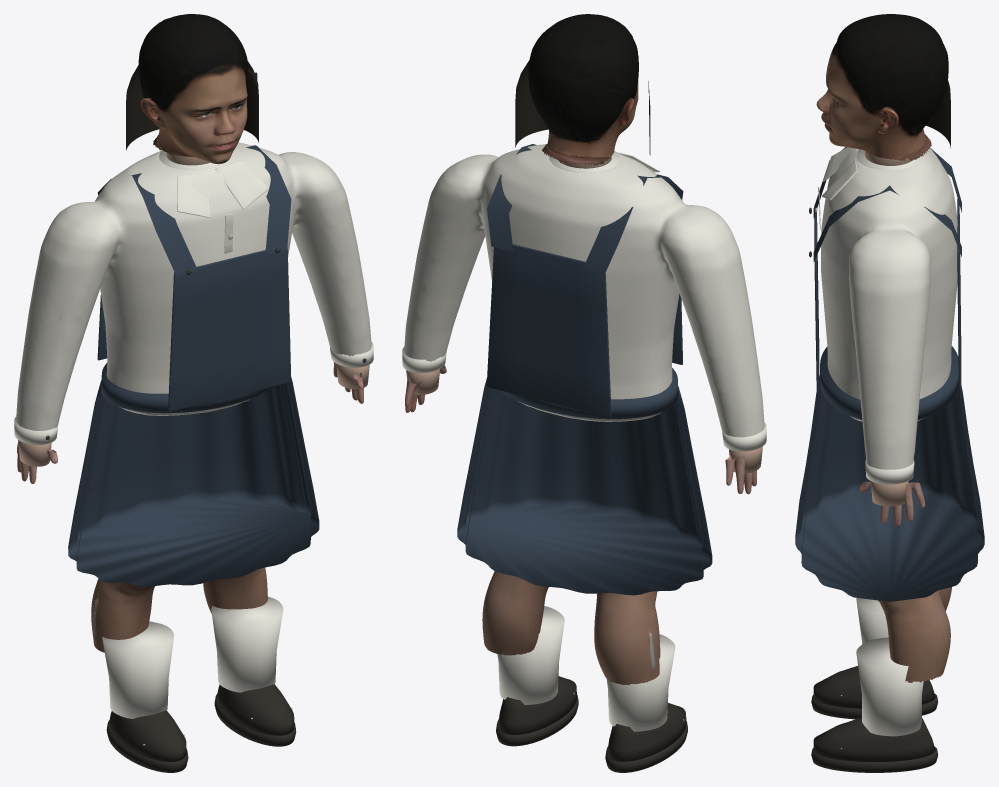
File: CampusGirl.fbx
The picture shows the model from 3 angles, left to right: view 1: azimuth 30°, elevation 25°; view 2: azimuth 150°, elevation 25°; view 3: azimuth 270°, elevation 25°; orthographic projection.
Visible parts, largest first — view 1: CampusGirl; view 2: CampusGirl; view 3: CampusGirl.
Part boxes in pixels (bbox=[...]): CampusGirl: bbox=[14, 14, 373, 772]; CampusGirl: bbox=[402, 14, 766, 772]; CampusGirl: bbox=[795, 14, 984, 772].
Bounding box in the file's own units: 62.95 × 122 × 29.11.
8 materials, 1 textured.
